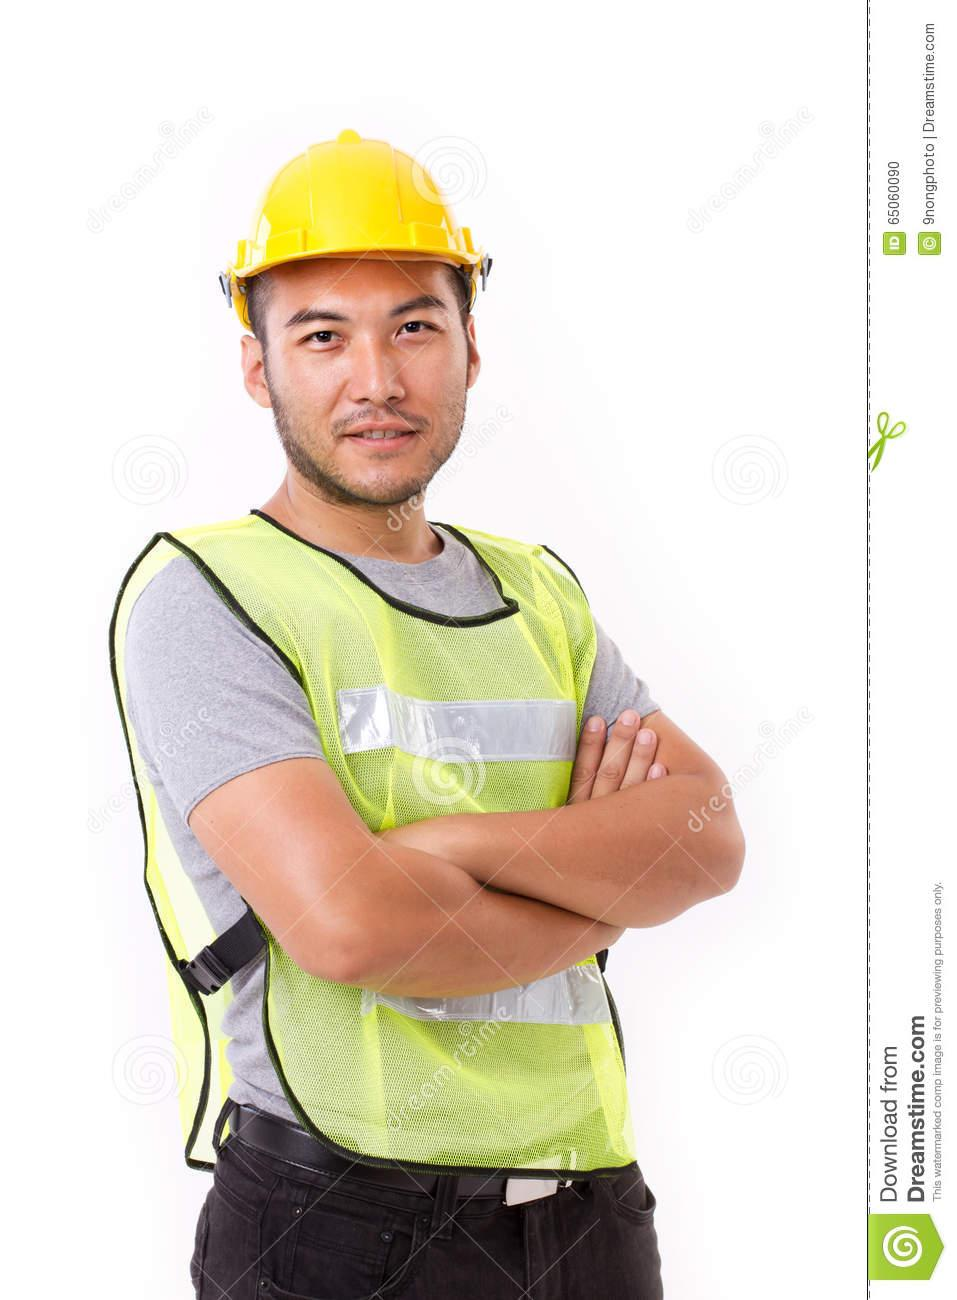helmet: (219, 129, 497, 334)
